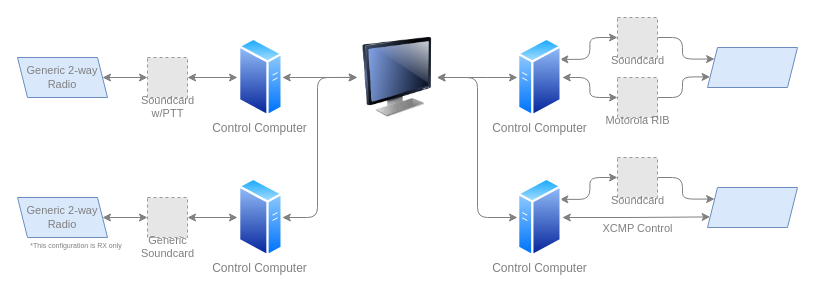
This 815x293 diagram has some shape labels left out. Grey dashed boxes stand in for pictures. Each missing label, with the centre of its shape:
"Motorola XPR/APX" belongs at pixel 752 207.
"Motorola XTL/MCS" belongs at pixel 752 67.
"PC with Microphone" belongs at pixel 397 77.
